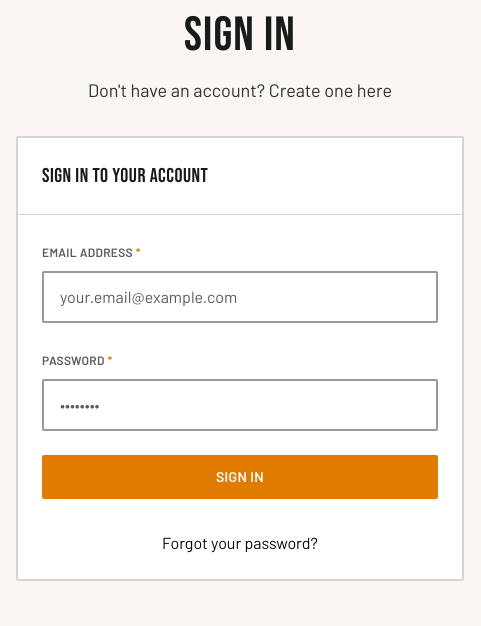
LoginPage › Form Validation › should show error for short password
This screenshot has width=481, height=626.
Type "test@example.com" into the field labelled "Email Address *" at (240, 297), box [42,271,438,323]
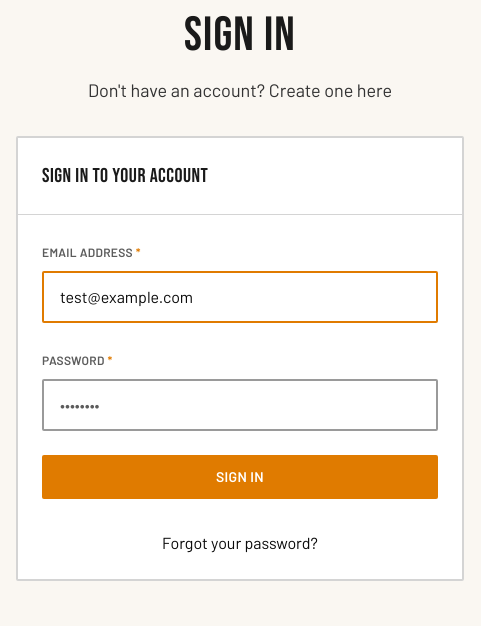
Type "12345" into the password field labelled "Password *" at (240, 405), box [42,379,438,431]
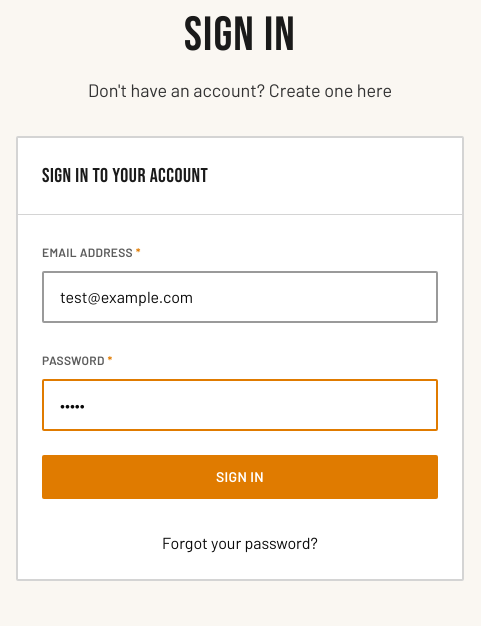
Click the button "Sign In" at (240, 477), box [42,455,438,499]
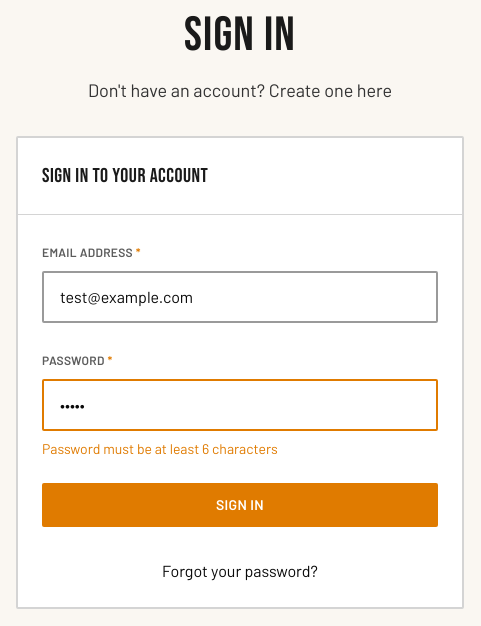
Now the text "Password must be at least 6 characters" is shown, box [42,440,278,457]
